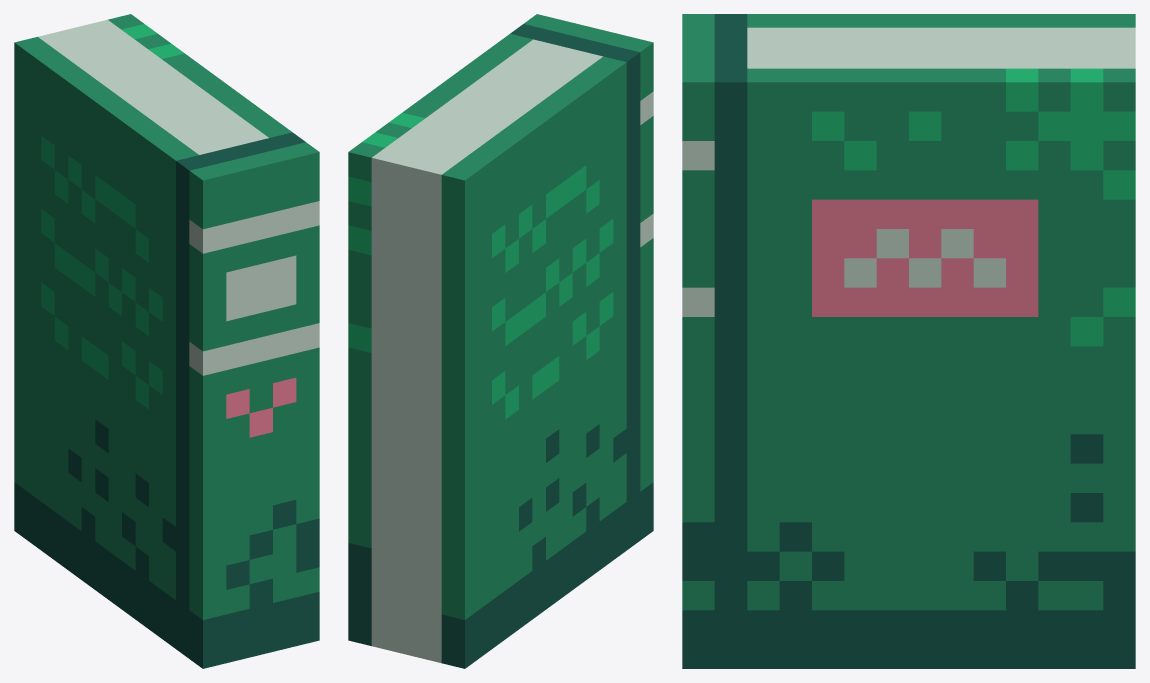
The model's file is VoxelBook0.glb.
The picture shows the model from 3 angles, left to right: view 1: azimuth 30°, elevation 25°; view 2: azimuth 150°, elevation 25°; view 3: azimuth 270°, elevation 25°; orthographic projection. The views are drawn at different scales.
Parts seen in each view (by area): view 1: Book_0; view 2: Book_0; view 3: Book_0.
Boxes of the visible parts, bbox=[...] form: Book_0: bbox=[14, 14, 319, 668]; Book_0: bbox=[348, 14, 653, 668]; Book_0: bbox=[682, 14, 1135, 668].
Bounding box in the file's own units: 0.05 × 0.2 × 0.14.
1 material, 1 textured.
